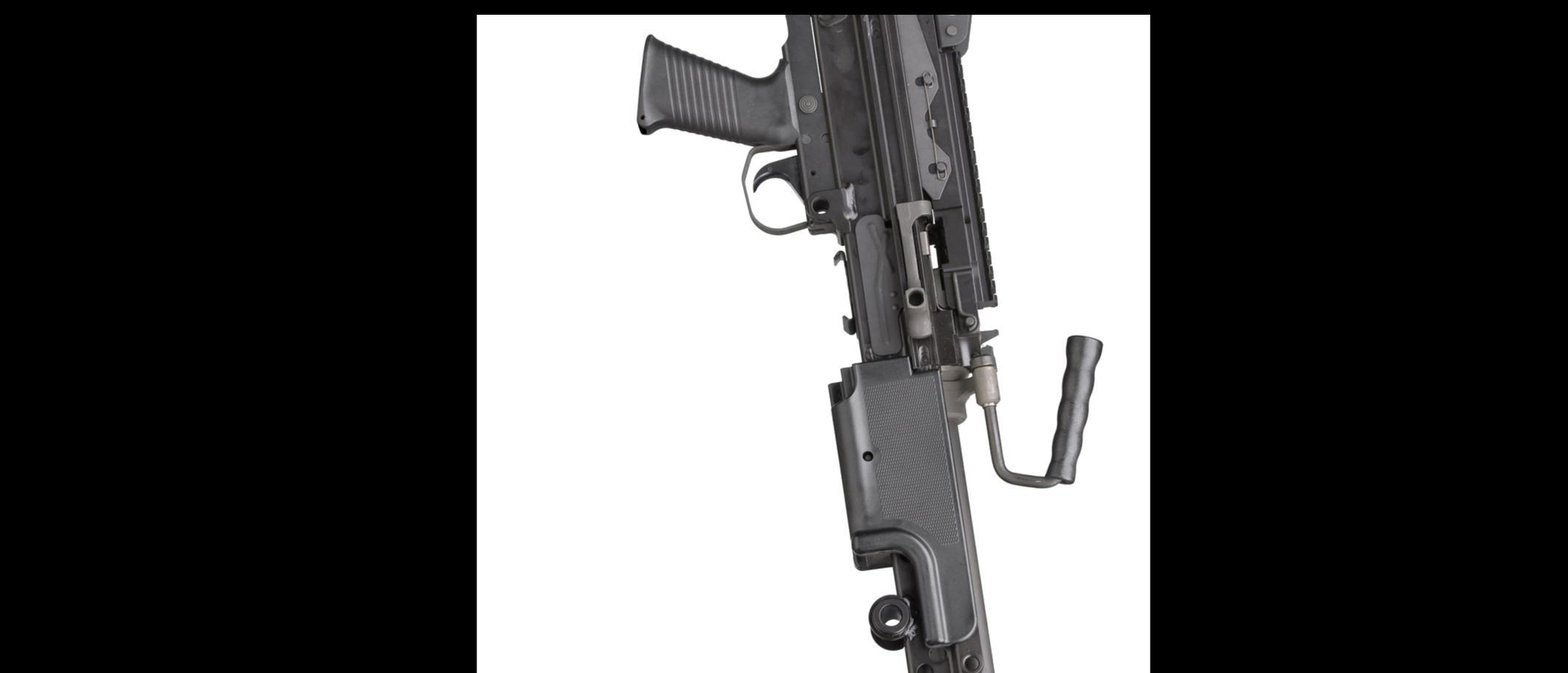larga: (637, 13, 1103, 673)
